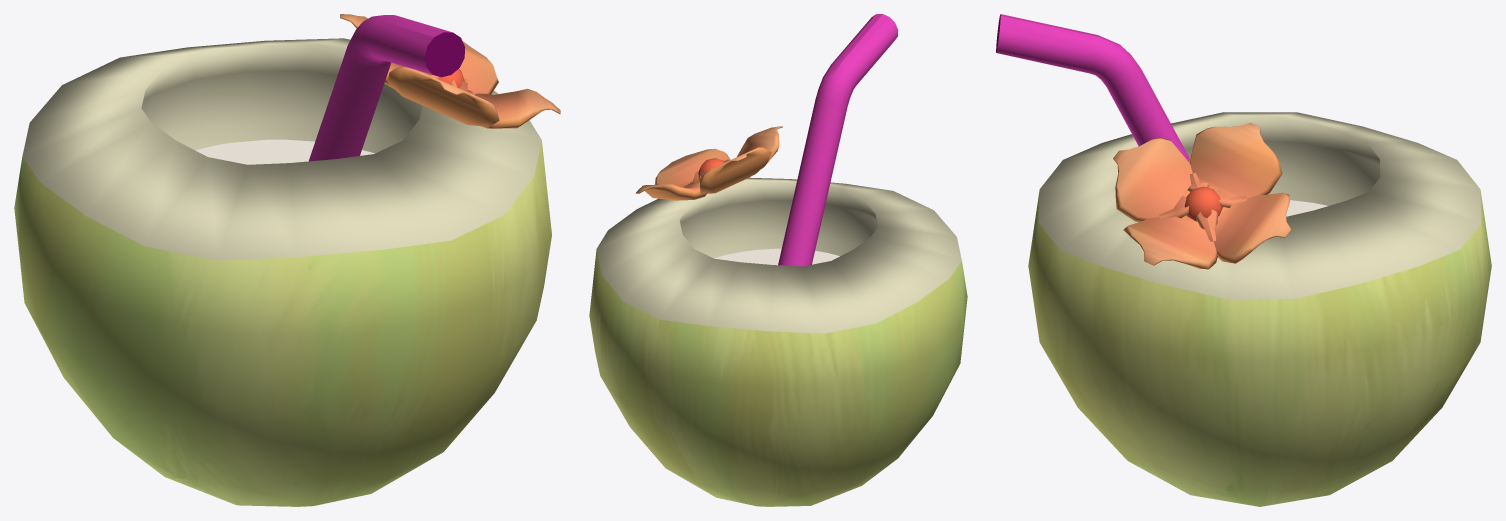
File: coconut_drink.fbx
3 renders of one model, left to right at view 1: azimuth 30°, elevation 25°; view 2: azimuth 150°, elevation 25°; view 3: azimuth 270°, elevation 25°, orthographic. The views are drawn at different scales.
Parts seen in each view (by area): view 1: g_coconut.001, Cylinder, flower.001, Plane; view 2: g_coconut.001, Cylinder, flower.001, Plane; view 3: g_coconut.001, flower.001, Cylinder.
Part boxes in pixels (x1,y1,x2,y2): g_coconut.001: (14, 38, 551, 506); Cylinder: (309, 15, 464, 161); flower.001: (340, 14, 560, 128); Plane: (195, 139, 374, 164); g_coconut.001: (589, 177, 967, 506); Cylinder: (778, 14, 898, 266); flower.001: (635, 126, 782, 200); Plane: (714, 248, 839, 265); g_coconut.001: (1028, 112, 1491, 506); flower.001: (1113, 122, 1291, 269); Cylinder: (996, 14, 1189, 162).
Size of the model in its own units: 117 by 137 by 129.
7 materials, 2 textured.
